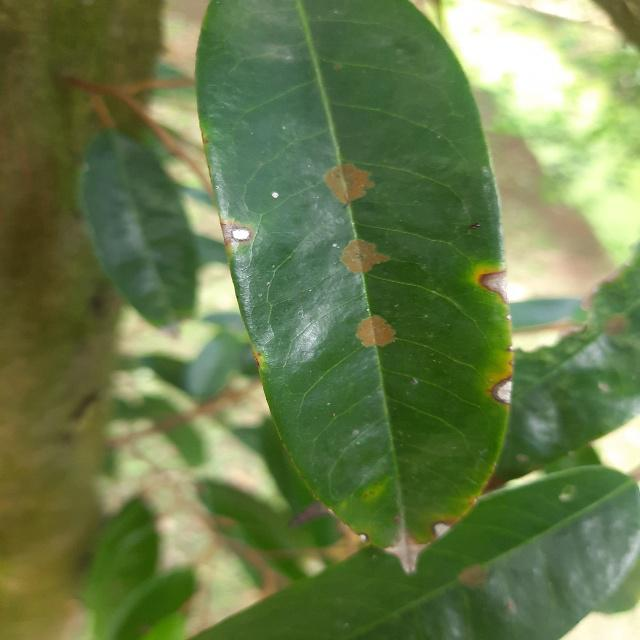Algal Leaf Spot: (189, 0, 525, 578)
